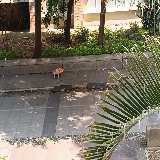fire: (57, 66, 64, 74)
